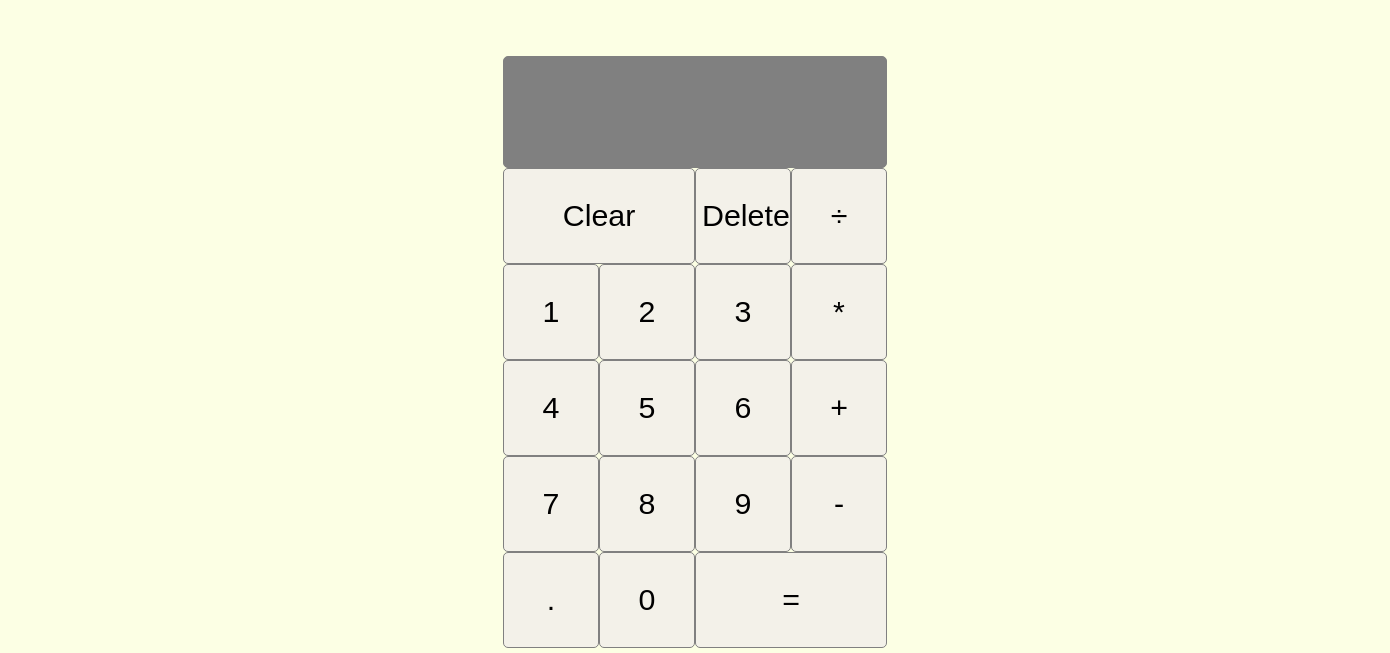
Test: number can multiple another number and display the total › can multiple two separate numbers together
Click the button "9": (743, 504) 695,456 -> 791,552
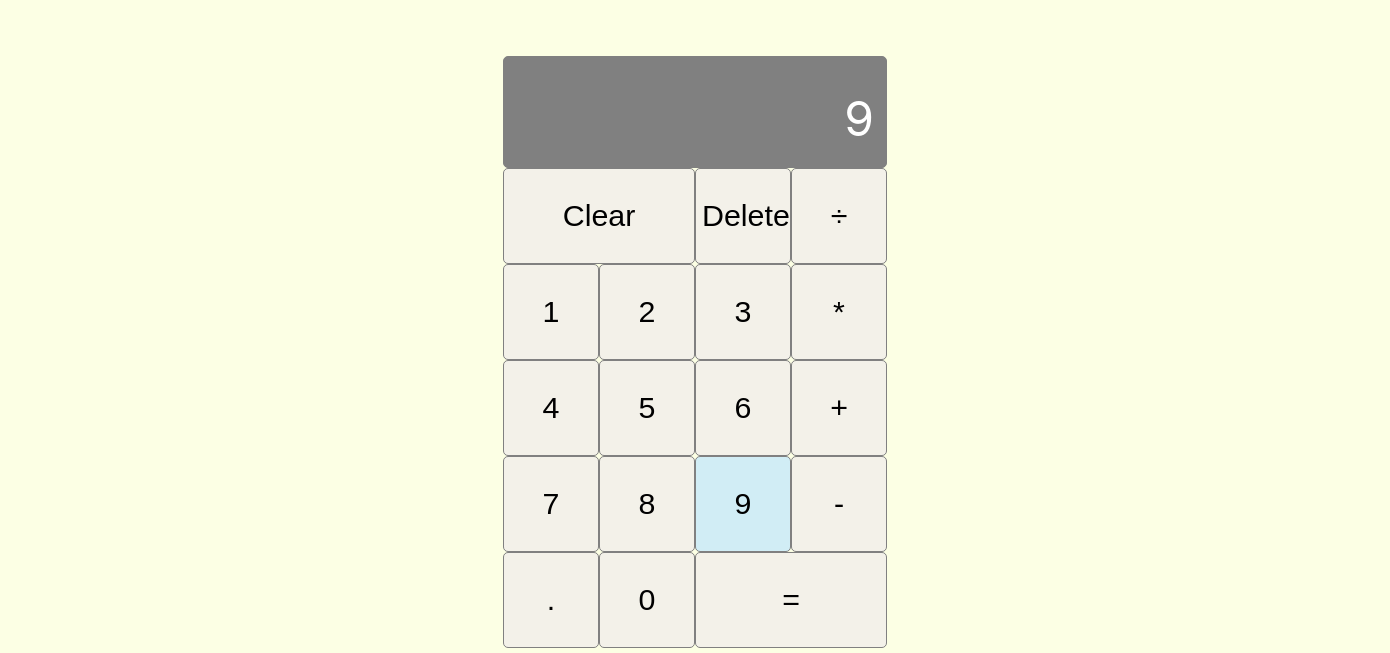
Click the button "*": (839, 312) 791,264 -> 887,360
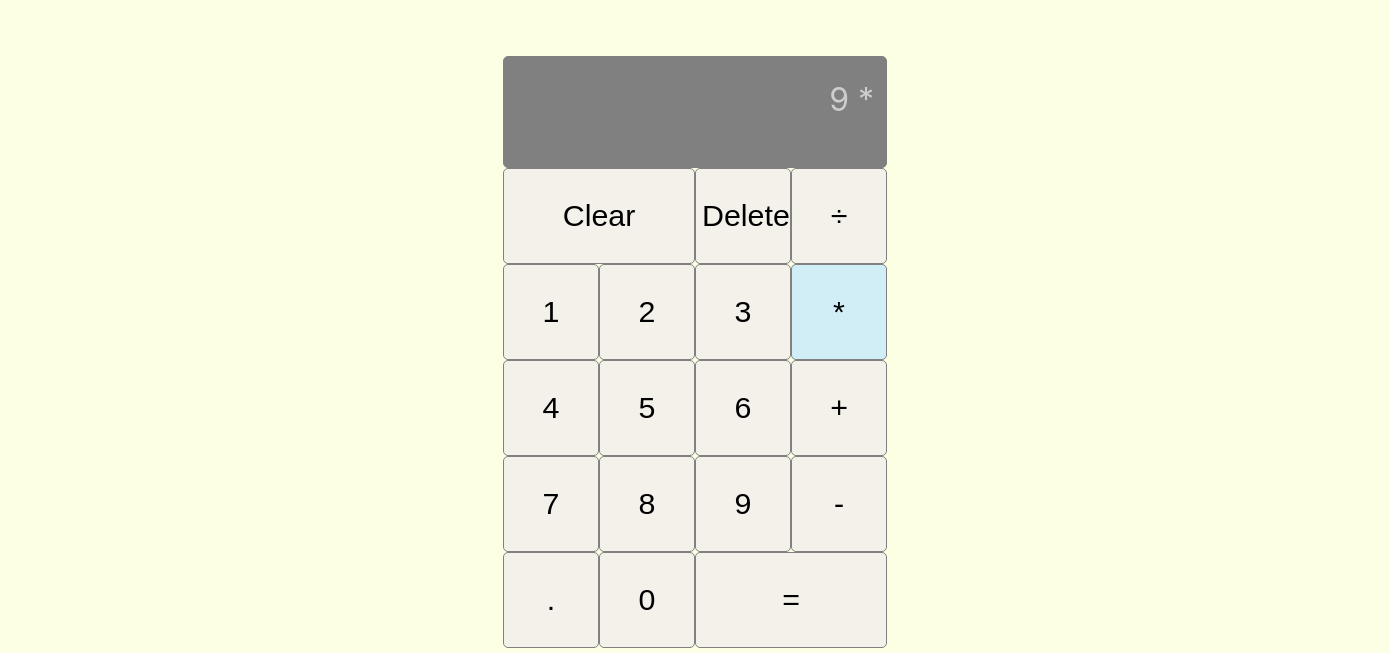
Click the button "7": (551, 504) 503,456 -> 599,552
(page scrolled)
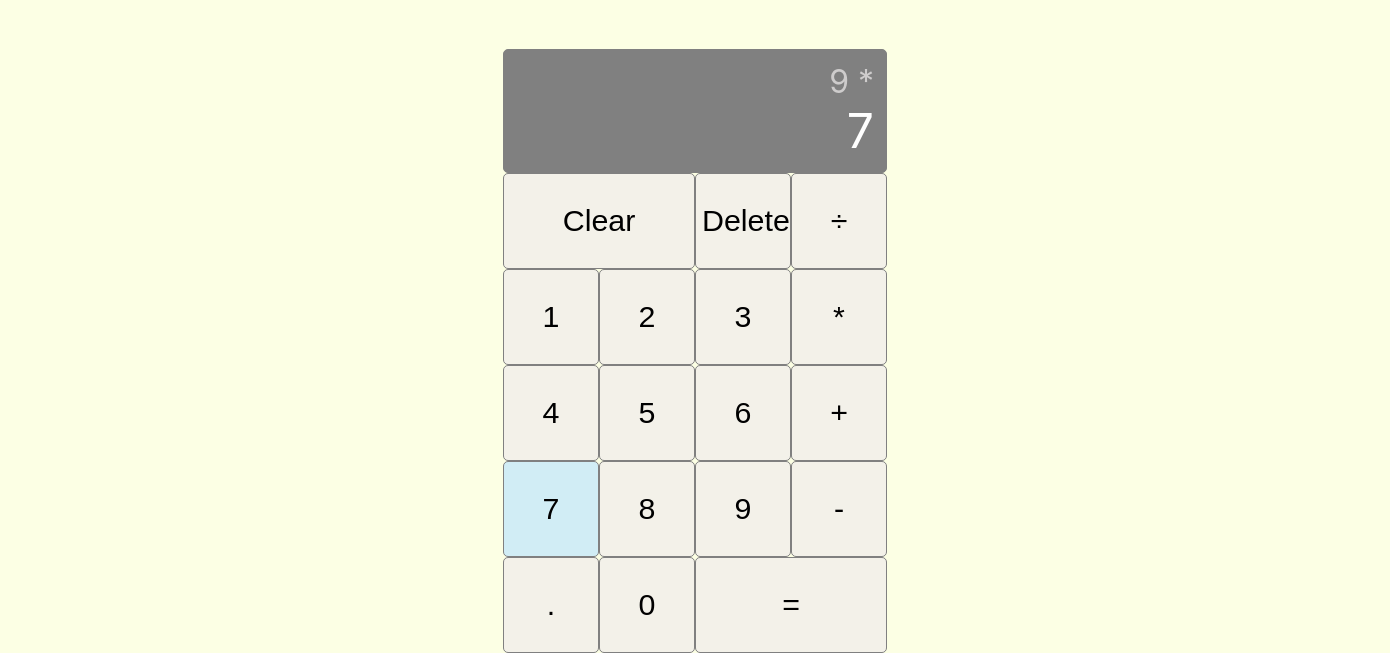
Click the button "=": (791, 605) 695,557 -> 887,652
(page scrolled)
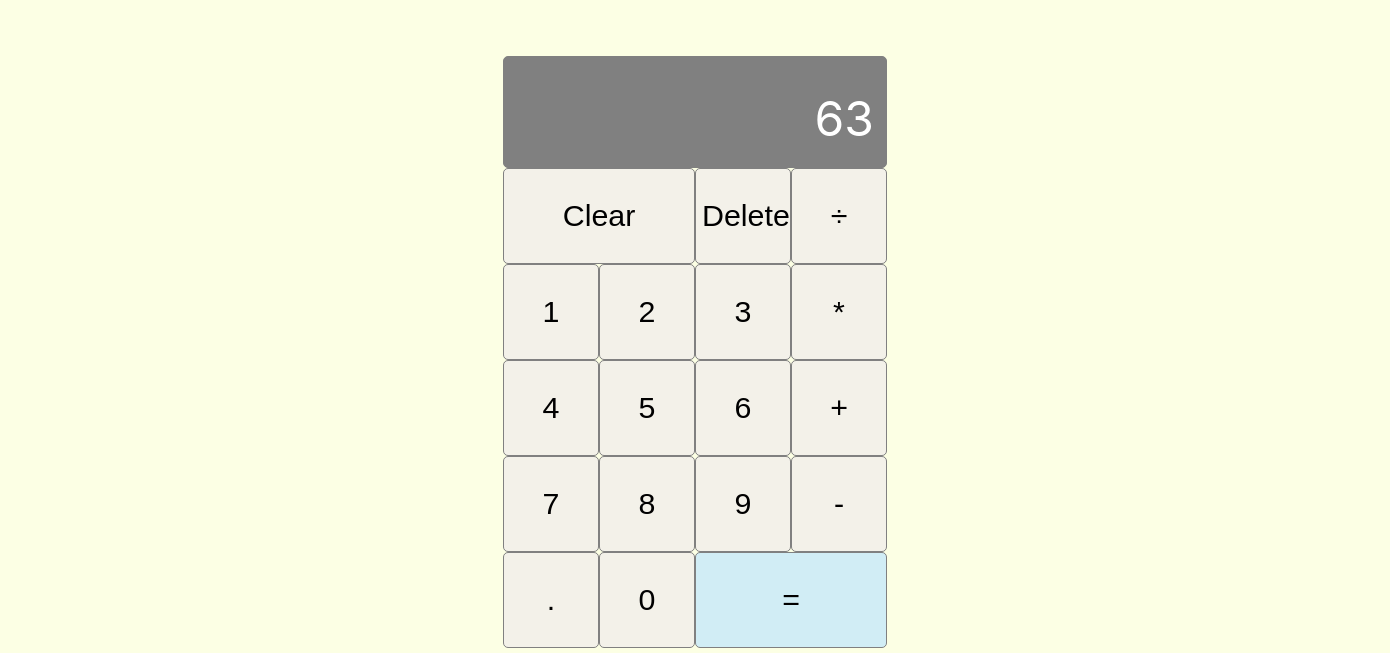
Result: the text with class "current-sum" reads "63" at 815,89 -> 874,148
